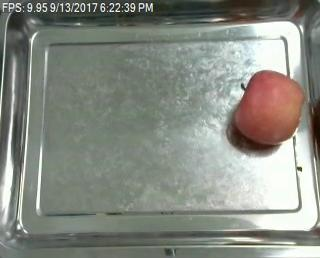apple: (232, 69, 304, 148)
